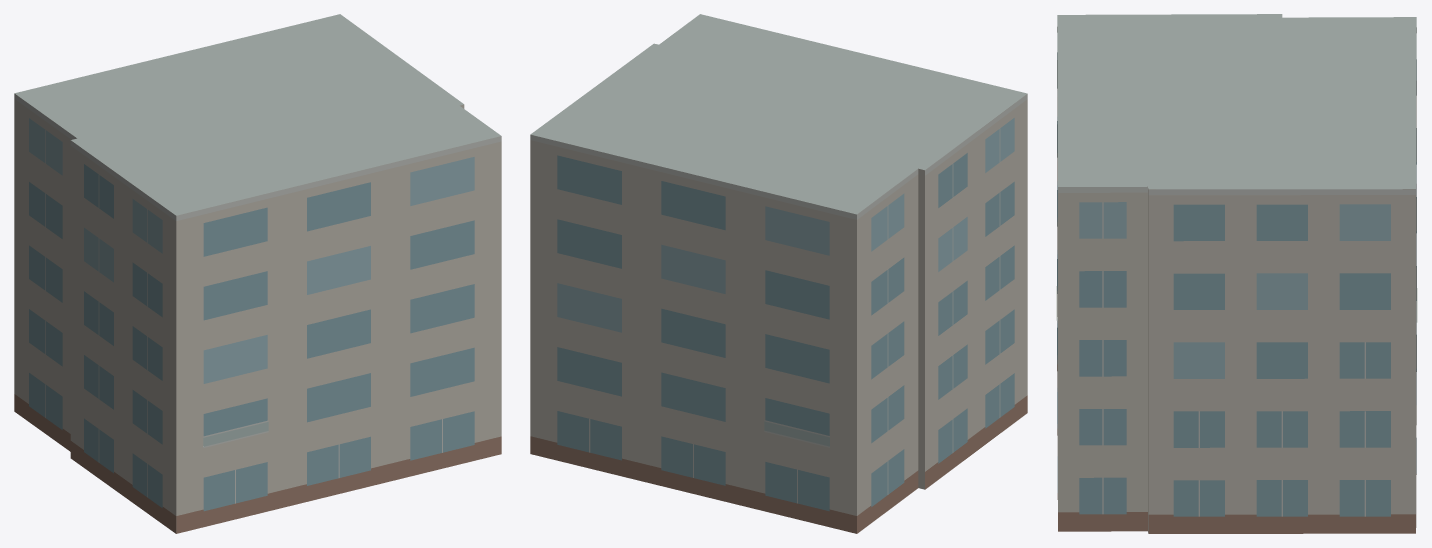
Rendered from survey-upis-32840883.glb.
3 renders of one model, left to right at view 1: azimuth 30°, elevation 25°; view 2: azimuth 150°, elevation 25°; view 3: azimuth 270°, elevation 25°, orthographic. The views are drawn at different scales.
Visible parts, largest first — view 1: survey-upis-32840883.tmp; view 2: survey-upis-32840883.tmp; view 3: survey-upis-32840883.tmp.
Boxes of the visible parts, x1=… form: survey-upis-32840883.tmp: x1=14, y1=14, x2=501, y2=533; survey-upis-32840883.tmp: x1=530, y1=14, x2=1027, y2=533; survey-upis-32840883.tmp: x1=1056, y1=14, x2=1417, y2=533.
Bounding box in the file's own units: 15.51 × 14.2 × 13.5.
